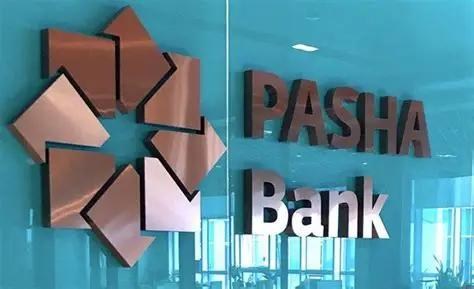Pasha Bank: (6, 2, 227, 270)
